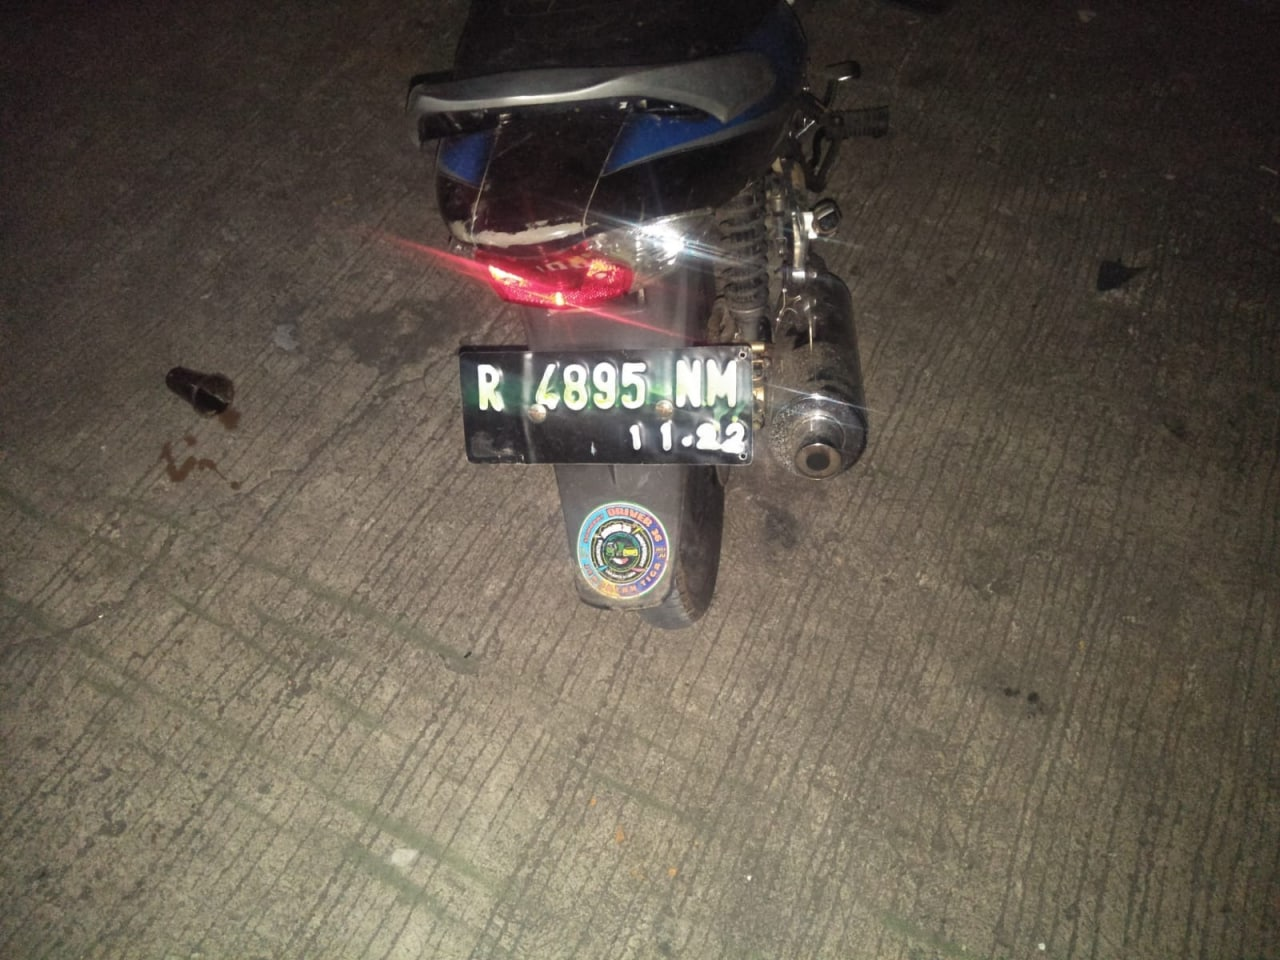plate: (459, 344, 747, 463)
